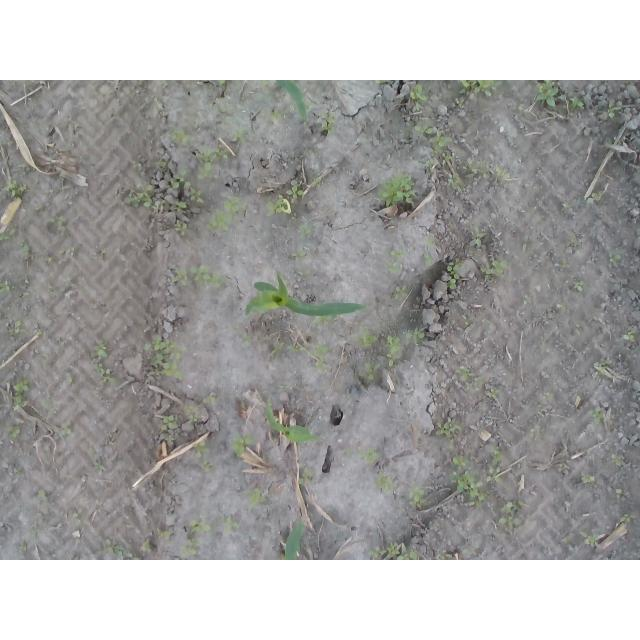Maize: (243, 270, 367, 318), (265, 397, 320, 444), (272, 81, 309, 124), (284, 516, 305, 560)
Weeds: (449, 453, 492, 511), (139, 335, 186, 382), (90, 335, 123, 385), (207, 192, 247, 233), (416, 117, 453, 161), (375, 168, 417, 206), (216, 102, 248, 146), (181, 519, 214, 558), (174, 266, 226, 290), (194, 149, 229, 184), (447, 80, 511, 97), (127, 179, 162, 210), (458, 158, 510, 178), (369, 541, 419, 560), (102, 537, 143, 560), (263, 194, 297, 221), (497, 499, 527, 529), (456, 365, 487, 393), (479, 256, 513, 281), (486, 446, 505, 487), (410, 80, 434, 112), (532, 81, 560, 108), (435, 415, 466, 439), (229, 431, 256, 458), (443, 257, 465, 290), (1, 178, 32, 201), (307, 343, 330, 374), (166, 125, 197, 147), (383, 248, 409, 273), (158, 415, 182, 442), (385, 335, 403, 370), (271, 342, 305, 360), (246, 486, 271, 510), (12, 378, 32, 408), (409, 486, 432, 511), (319, 110, 337, 139), (182, 403, 202, 429), (168, 168, 192, 189), (468, 224, 488, 249), (374, 471, 396, 493), (354, 325, 377, 346), (357, 446, 383, 464), (297, 461, 315, 487), (216, 515, 240, 534), (1, 421, 23, 439), (586, 407, 608, 425), (188, 187, 209, 205), (366, 359, 382, 382), (199, 393, 223, 408), (566, 95, 586, 113), (606, 102, 624, 122), (46, 215, 67, 232), (193, 441, 212, 459), (591, 357, 610, 375), (404, 327, 424, 344), (619, 511, 640, 527), (554, 255, 575, 271), (7, 319, 25, 337), (580, 474, 601, 489), (286, 183, 303, 201), (392, 285, 409, 303), (296, 223, 315, 238), (608, 252, 624, 269), (529, 424, 546, 440), (15, 162, 32, 178), (422, 158, 438, 175), (175, 219, 190, 237), (31, 487, 49, 502), (1, 224, 16, 241), (446, 175, 461, 192), (15, 240, 33, 254), (199, 460, 218, 473), (309, 170, 322, 189), (129, 159, 144, 175), (269, 110, 289, 122), (0, 279, 16, 293), (572, 276, 586, 292), (583, 533, 600, 546), (242, 333, 253, 353), (587, 190, 605, 202), (155, 527, 170, 541), (172, 199, 188, 212), (449, 96, 465, 109), (624, 328, 637, 344), (288, 250, 305, 262), (610, 452, 624, 466), (142, 538, 155, 553), (515, 96, 526, 113), (561, 202, 576, 214), (575, 320, 586, 336), (71, 512, 81, 529), (484, 388, 497, 401), (16, 539, 28, 553), (150, 159, 168, 168), (96, 462, 109, 474), (63, 421, 74, 435), (15, 463, 23, 481), (17, 291, 31, 301), (424, 234, 434, 248), (214, 81, 226, 92), (615, 486, 626, 498), (68, 247, 81, 257), (567, 236, 577, 248), (423, 256, 433, 268), (35, 327, 46, 337), (439, 549, 449, 560), (258, 80, 271, 88), (160, 80, 177, 86), (558, 462, 568, 472), (544, 392, 555, 401), (31, 527, 38, 541), (557, 304, 567, 313), (605, 136, 615, 145), (463, 320, 470, 329), (375, 80, 386, 85)
